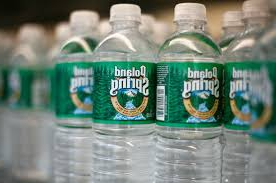plastic water bottle: (156, 2, 222, 183), (92, 3, 155, 183), (222, 1, 276, 183), (53, 8, 101, 183)
